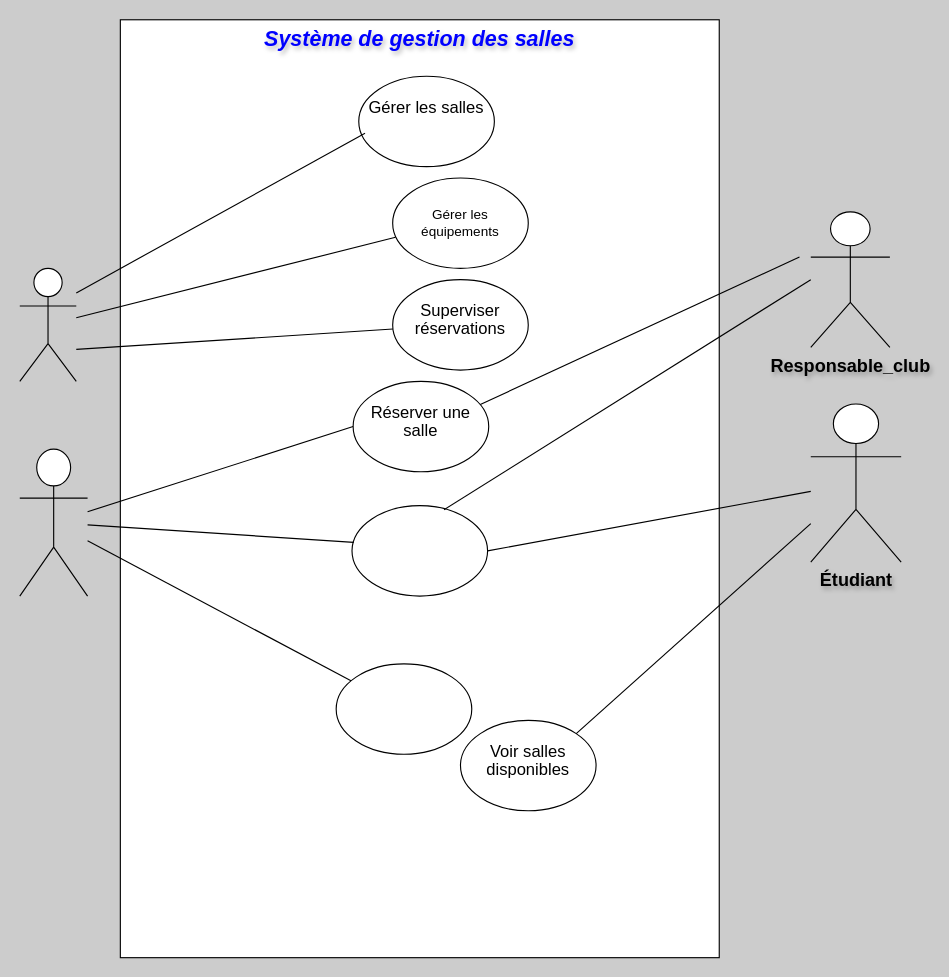
Some shapes in this 949 by 977 pixel diagram are drawn without their labels. The shapes that lost their labels are listed below. From the top down, each one's centre as x and y in pixels, then its label:
At point (47, 324): "Admin".
At point (53, 522): "Prof".
At point (419, 550): "Consulter planning".
At point (403, 708): "Annuler r é servation".
